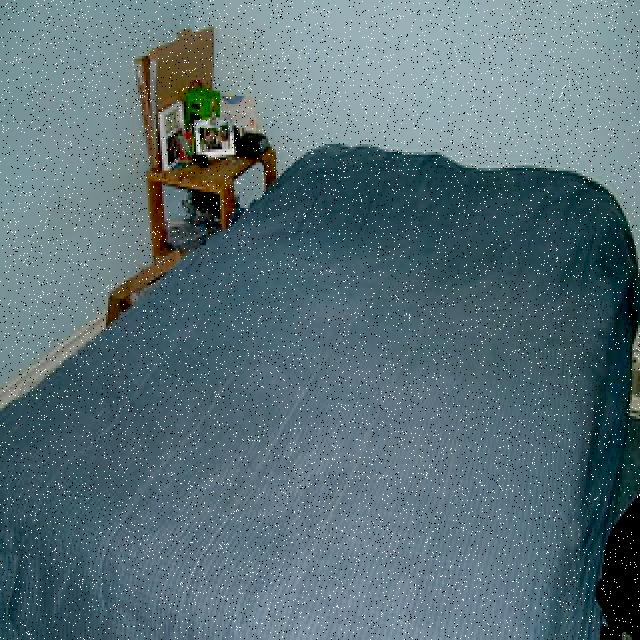bed: (9, 144, 633, 640)
